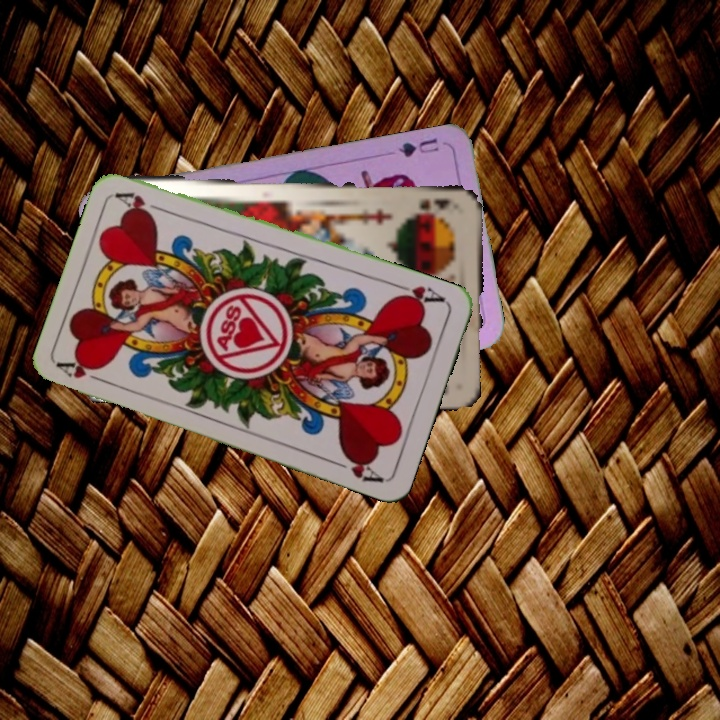GU: (394, 134, 441, 160)
HA: (55, 356, 113, 387), (389, 280, 448, 309)
SK: (417, 194, 454, 215)
